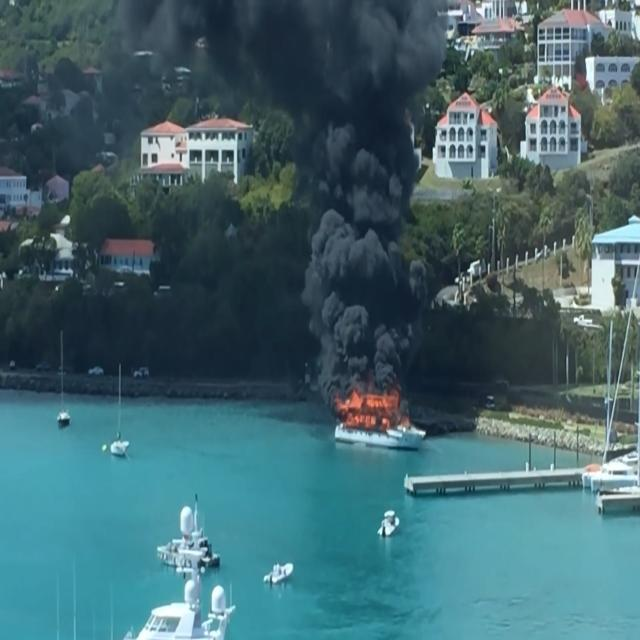Fire: (350, 393, 395, 430)
Smoke: (312, 30, 427, 213), (309, 227, 418, 390)
